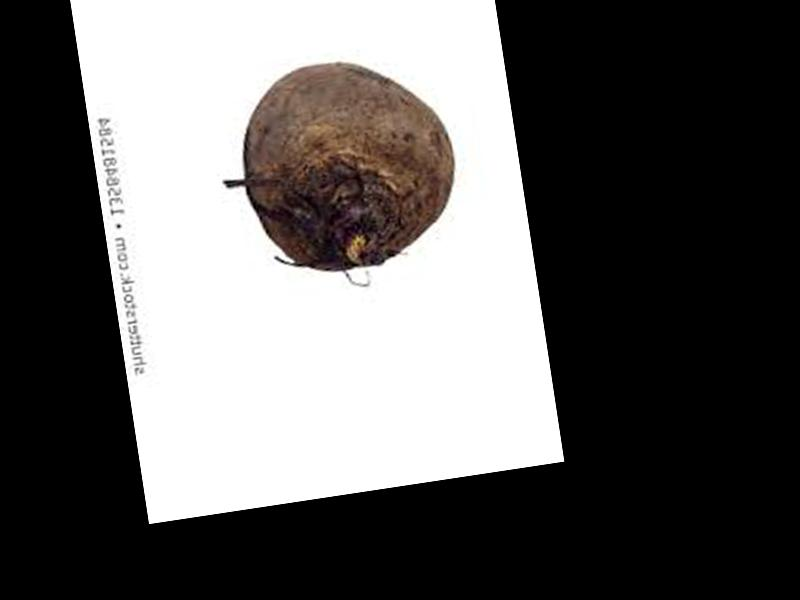Beet: (230, 44, 467, 280)
